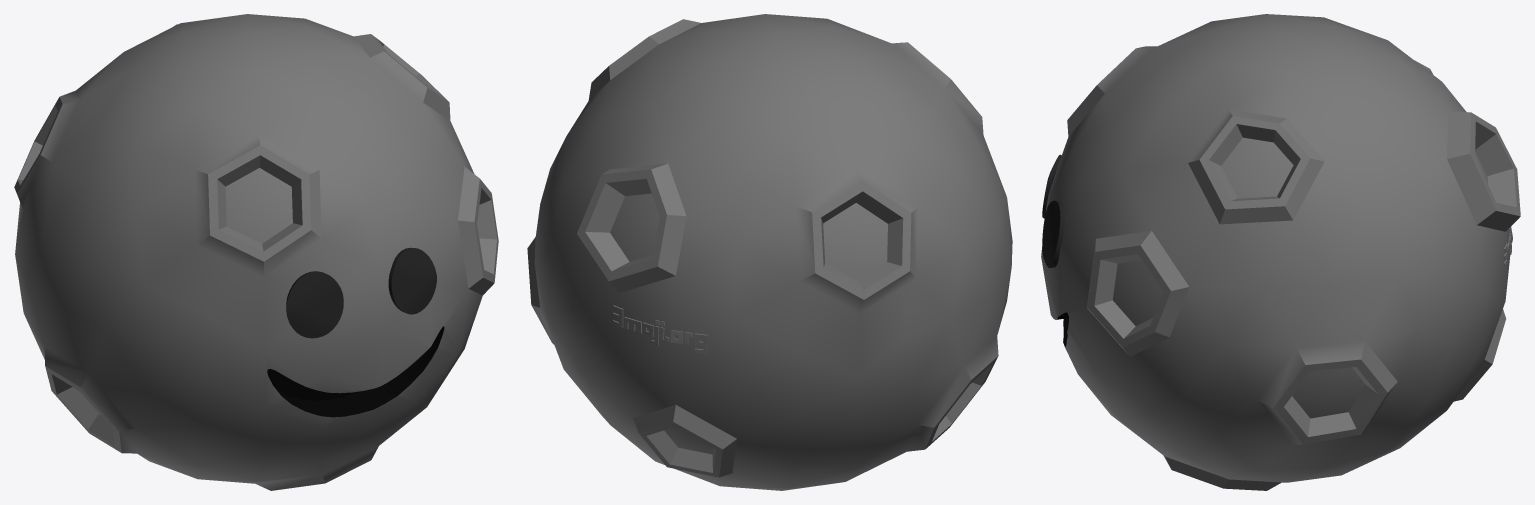
File: new_moon_face.glb
3 renders of one model, left to right at view 1: azimuth 30°, elevation 25°; view 2: azimuth 150°, elevation 25°; view 3: azimuth 270°, elevation 25°, orthographic.
Parts seen in each view (by area): view 1: Icosphere.008, Circle.2105; view 2: Icosphere.008; view 3: Icosphere.008, Circle.2105.
Boxes of the visible parts, x1=… form: Icosphere.008: x1=14, y1=14, x2=498, y2=490; Circle.2105: x1=286, y1=247, x2=436, y2=338; Icosphere.008: x1=527, y1=14, x2=1012, y2=490; Icosphere.008: x1=1041, y1=14, x2=1520, y2=490; Circle.2105: x1=1042, y1=154, x2=1064, y2=268.
Size of the model in its own units: 2.03 by 2.04 by 2.03.
Materials: 1 (1 with a texture image).
